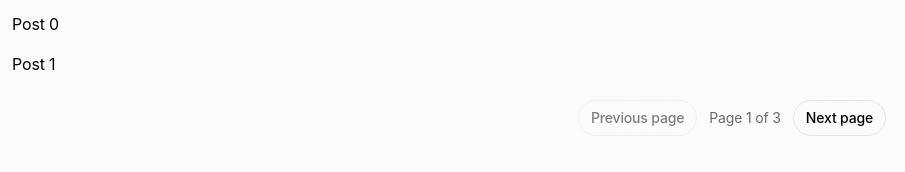
PostList — fullwidth variant (paginated) › disables the previous control on the first page and next on the last
Check: the button "Previous page" is disabled, box top-left (578, 100), bottom-right (697, 136)
Click the button "Next page". click: (839, 118)
box: top-left (793, 100), bottom-right (886, 136)
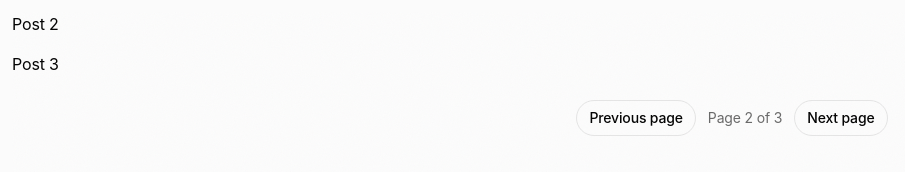
Click the button "Next page". click: (841, 118)
box: top-left (794, 100), bottom-right (888, 136)
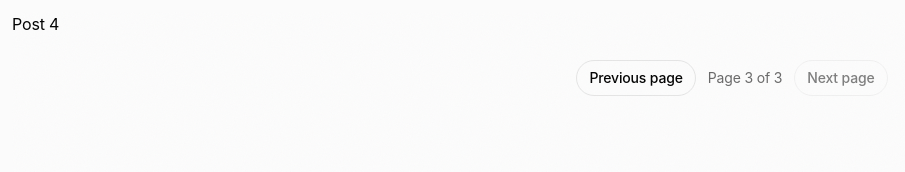
Check: the button "Next page" is disabled, box top-left (794, 60), bottom-right (888, 96)
